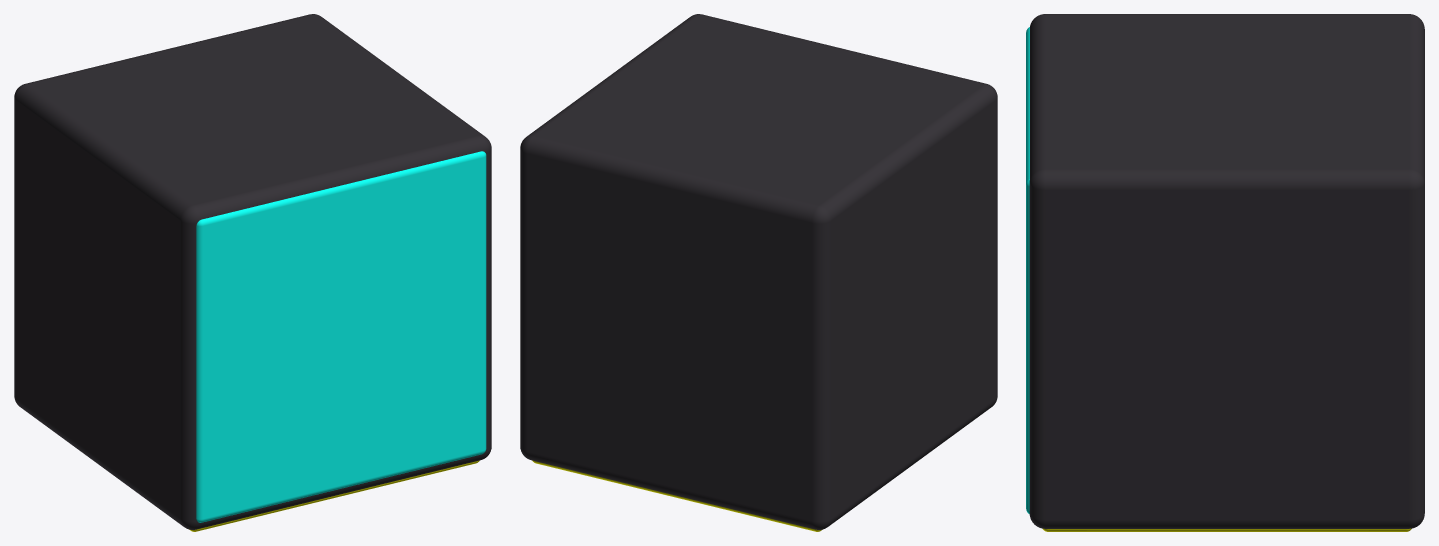
File: ybEdge.obj
3 renders of one model, left to right at view 1: azimuth 30°, elevation 25°; view 2: azimuth 150°, elevation 25°; view 3: azimuth 270°, elevation 25°, orthographic. The views are drawn at different scales.
Parts seen in each view (by area): view 1: 000_Base, 002_blue_(face), 001_yellow; view 2: 000_Base, 001_yellow; view 3: 000_Base, 002_blue_(face), 001_yellow.
Part boxes in pixels (x1,y1,x2,y2): 000_Base: (14, 14, 491, 529); 002_blue_(face): (196, 151, 486, 522); 001_yellow: (189, 460, 479, 531); 000_Base: (520, 14, 997, 529); 001_yellow: (532, 460, 822, 531); 000_Base: (1029, 14, 1424, 528); 002_blue_(face): (1026, 27, 1029, 513); 001_yellow: (1043, 528, 1411, 531).
Size of the model in its own units: 100 by 101 by 101.
